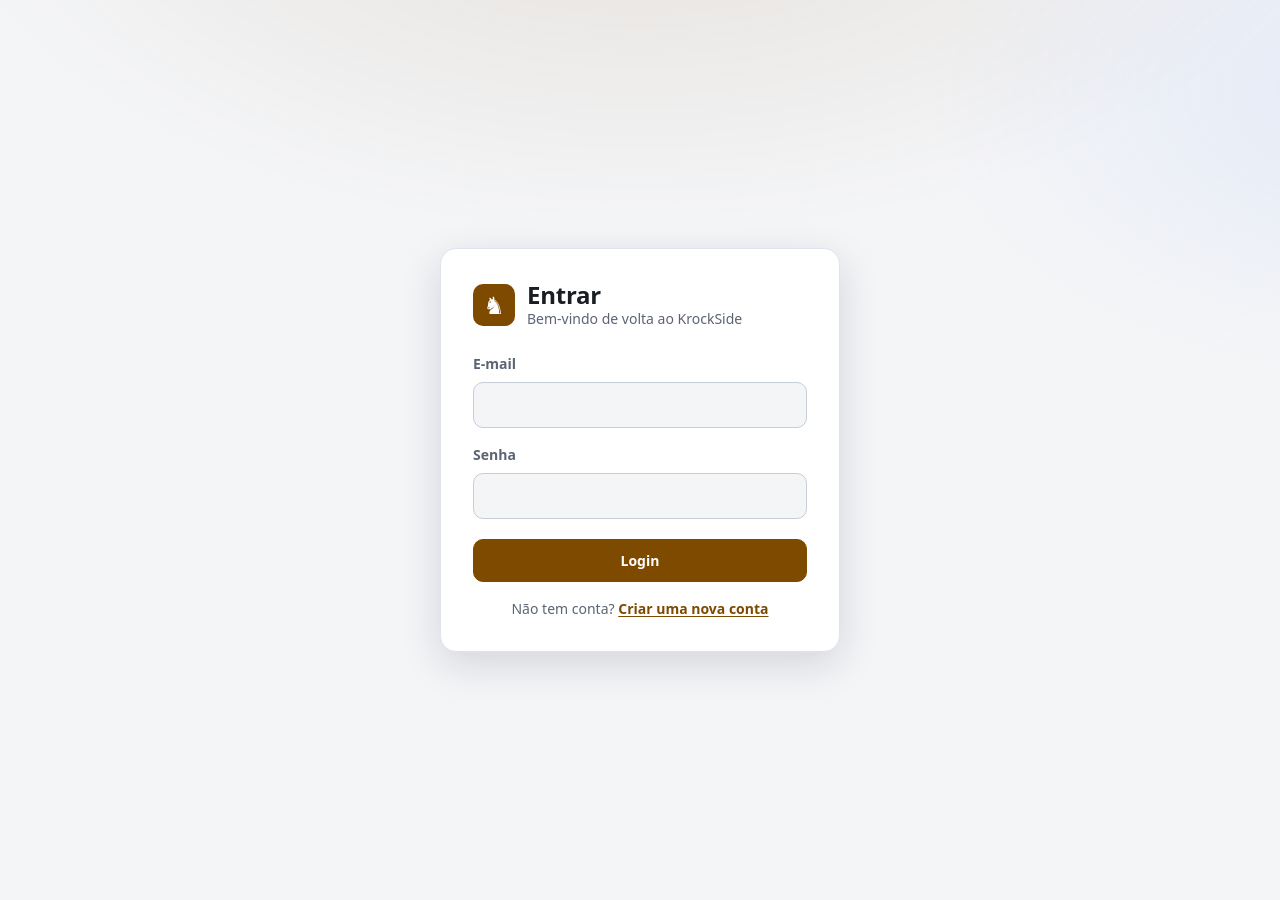
Test: Login › validates password confirmation on register
The image size is (1280, 900).
Click the button "Criar uma nova conta" at (693,609), box left=618, top=598, right=768, bottom=619
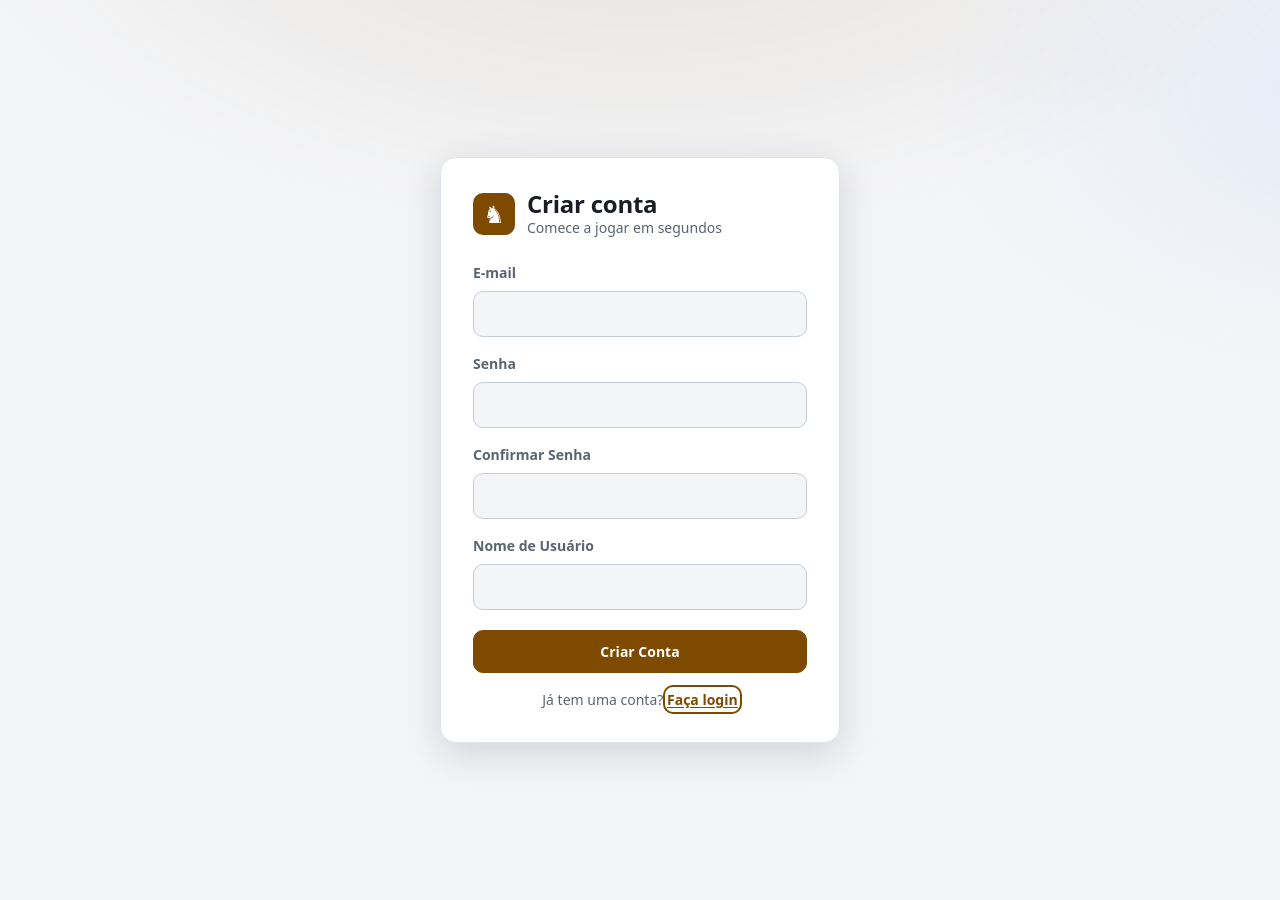
Type "a@b.com" into the field labelled "E-mail" at (640,314), box left=473, top=291, right=807, bottom=337
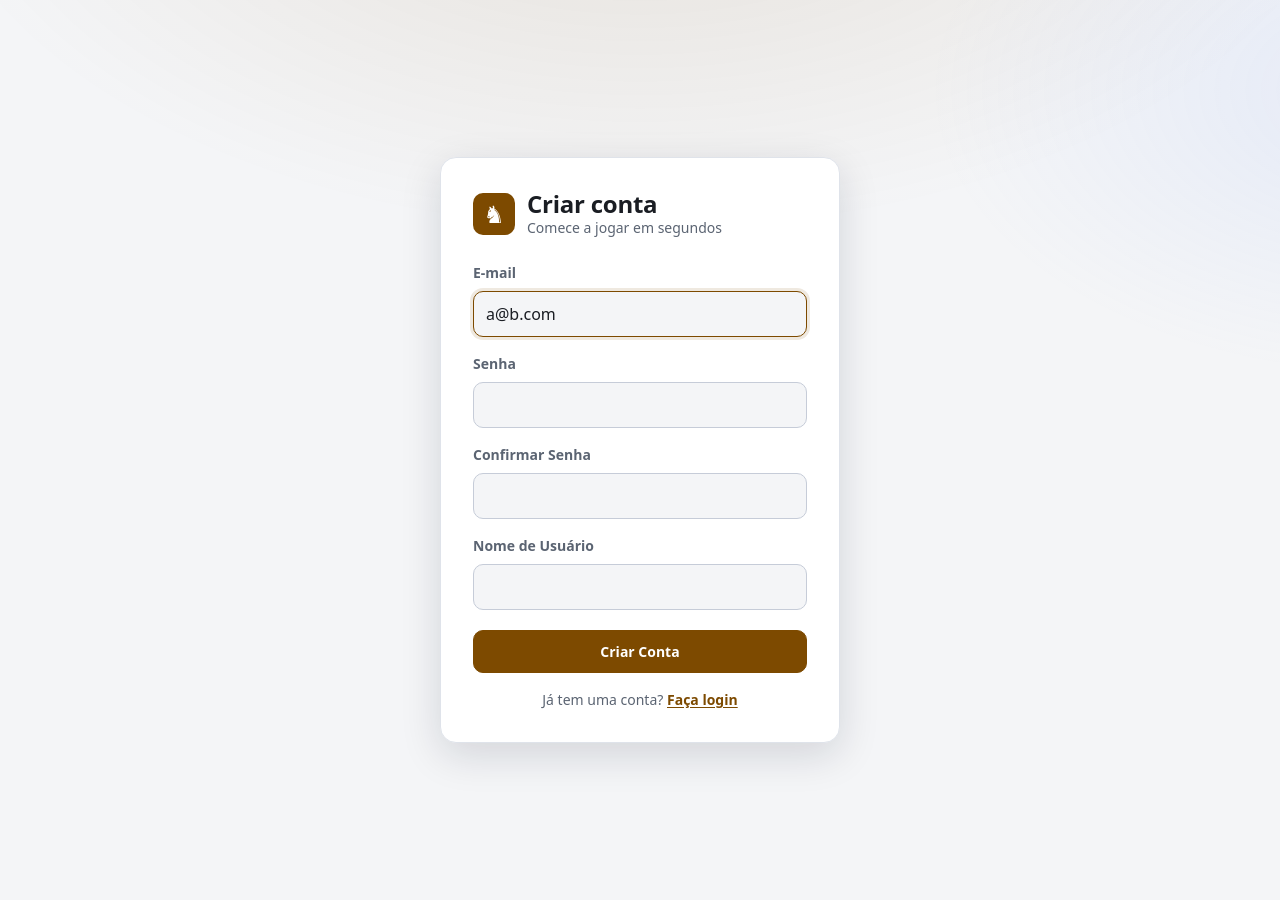
Type "senha-longa-1" into the password field labelled "Senha" at (640,405), box left=473, top=382, right=807, bottom=428
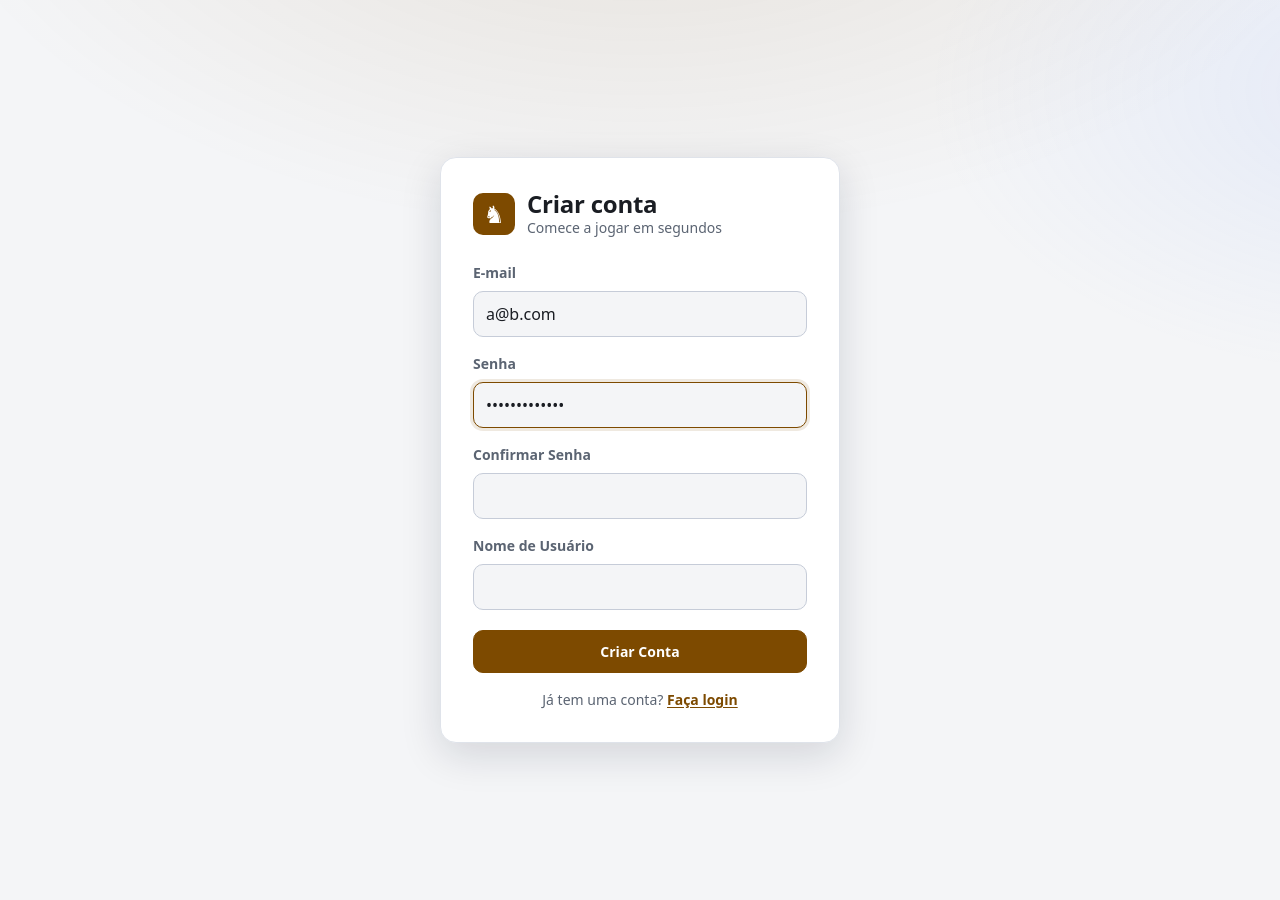
Type "senha-longa-2" into the password field labelled "Confirmar Senha" at (640,496), box left=473, top=473, right=807, bottom=519
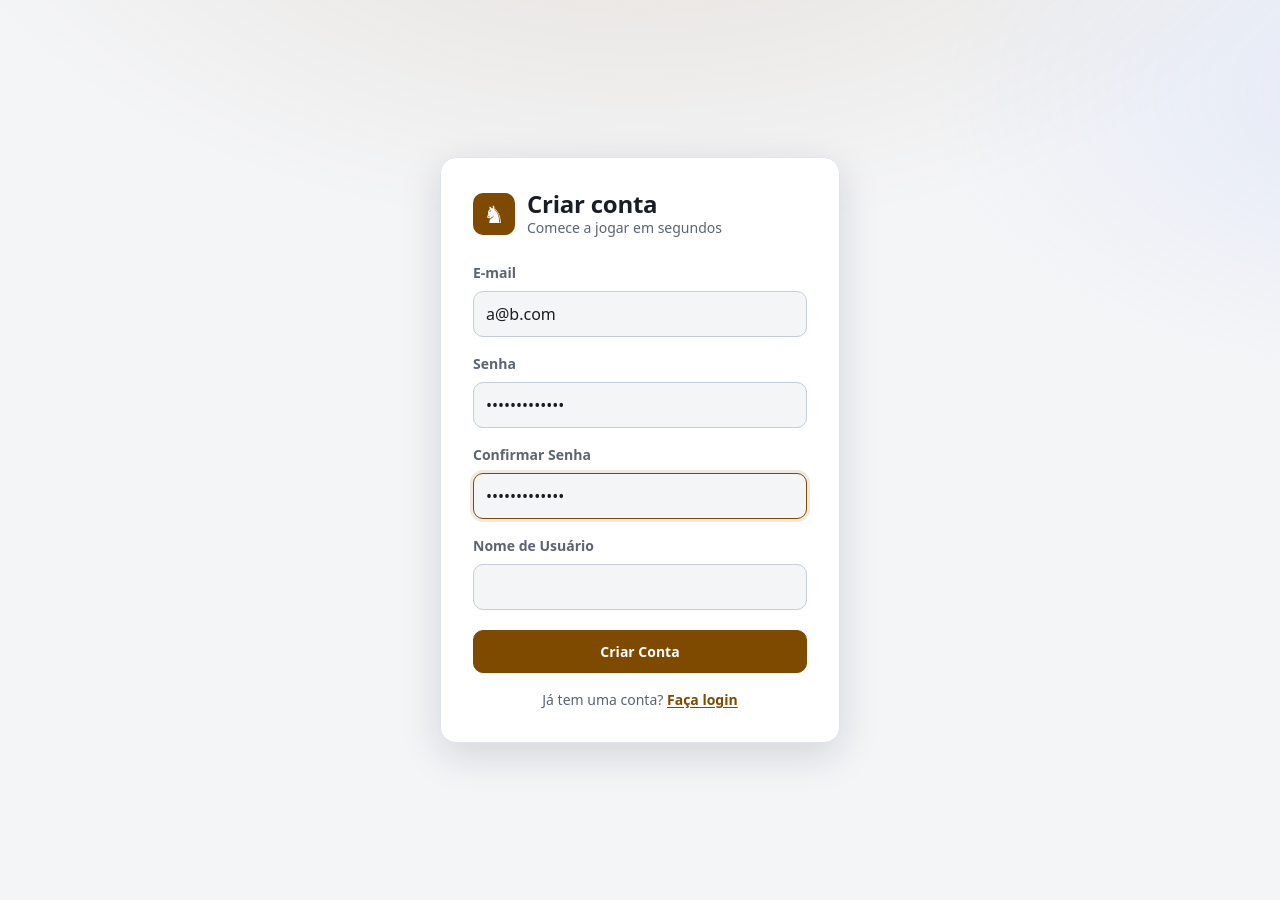
Type "thiago" into the field labelled "Nome de Usuário" at (640,587), box left=473, top=564, right=807, bottom=610
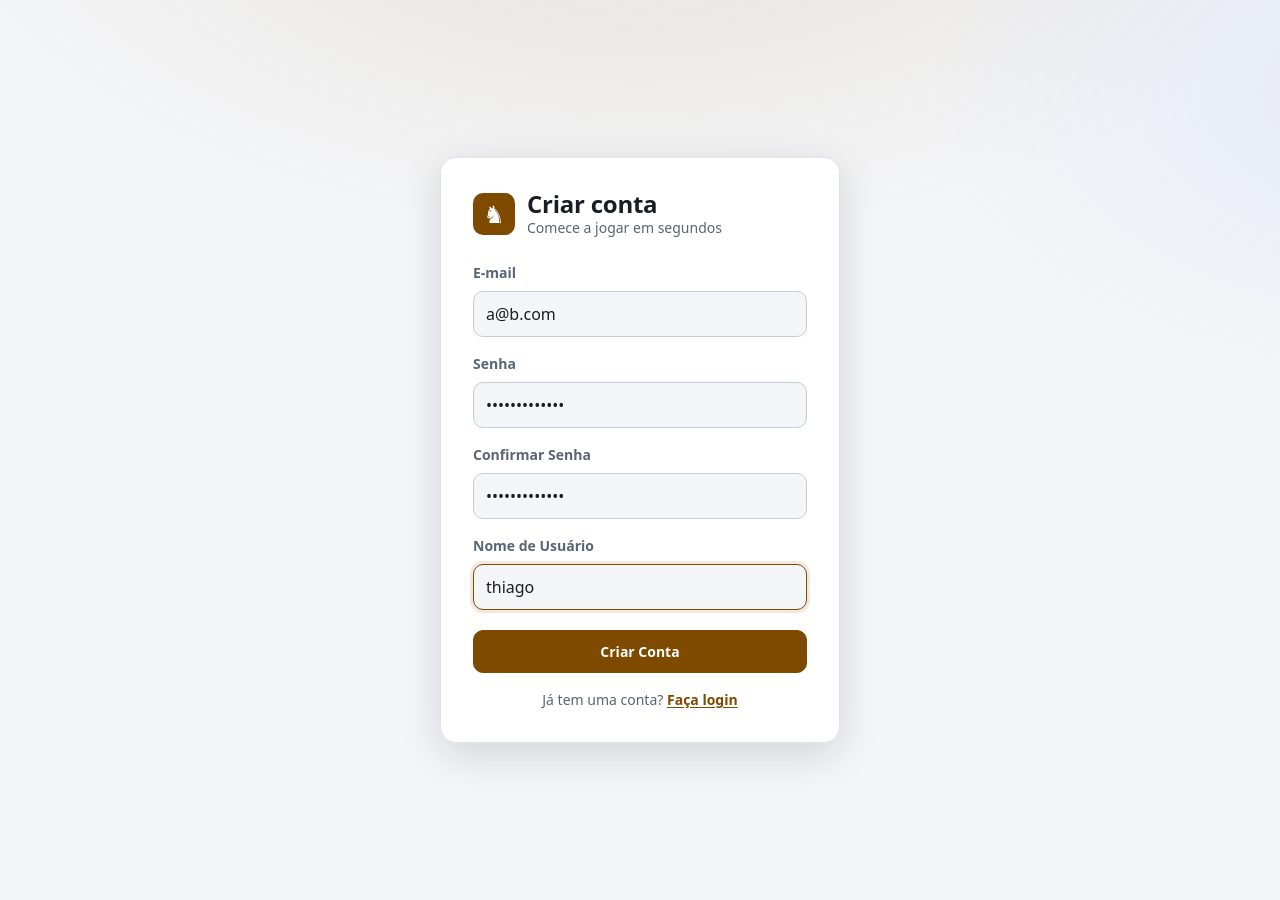
Click the button "Criar Conta" at (640,652), box left=473, top=630, right=807, bottom=673
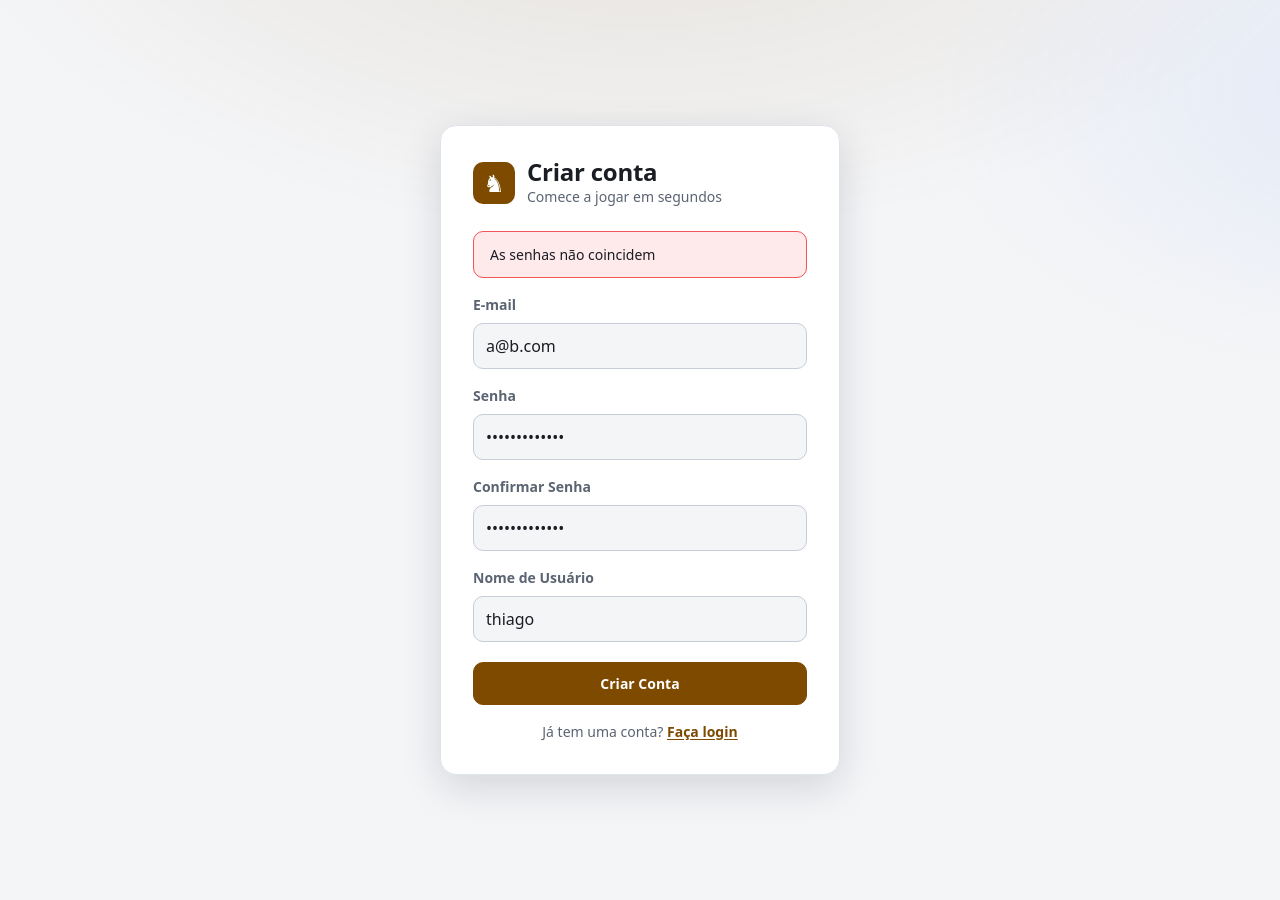
Expected: the message shows "coincidem", left=490, top=245, right=655, bottom=264
